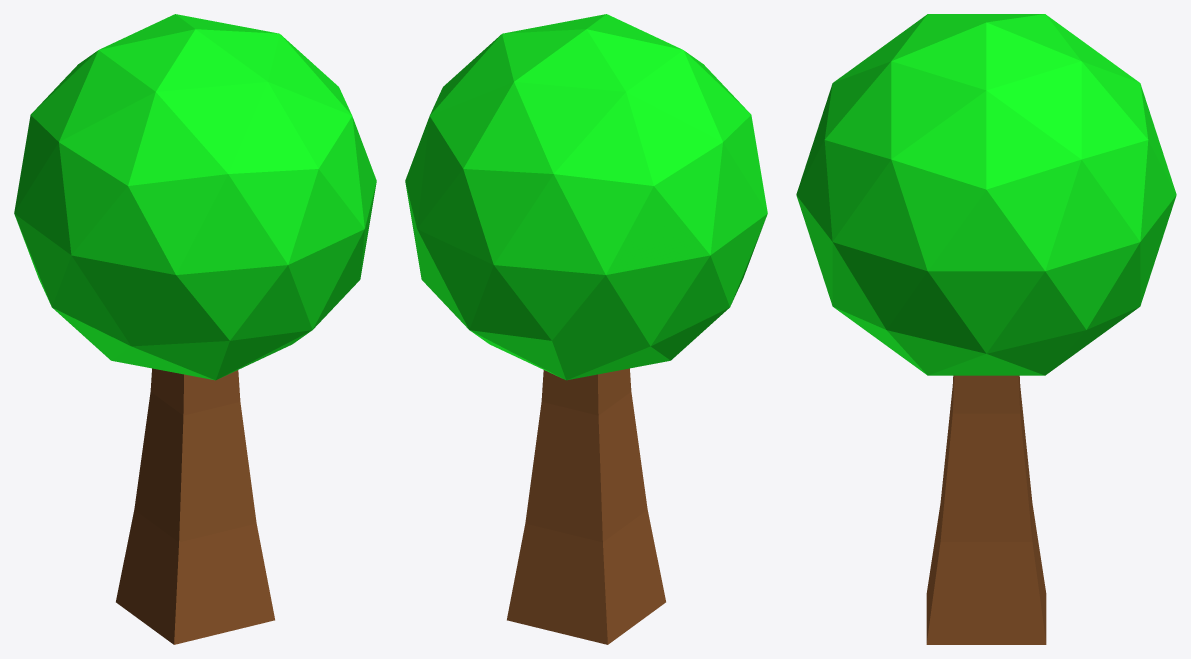
File: SimpleTree.fbx
3 views of the same model, side by side, from view 1: azimuth 30°, elevation 25°; view 2: azimuth 150°, elevation 25°; view 3: azimuth 270°, elevation 25° (orthographic). The views are drawn at different scales.
Parts seen in each view (by area): view 1: SimpleTree; view 2: SimpleTree; view 3: SimpleTree.
Part boxes in pixels (<box>): SimpleTree: <box>14,14,376,644</box>; SimpleTree: <box>405,14,767,644</box>; SimpleTree: <box>796,14,1176,644</box>.
Bounding box in the file's own units: 72.58 × 132 × 76.31.
